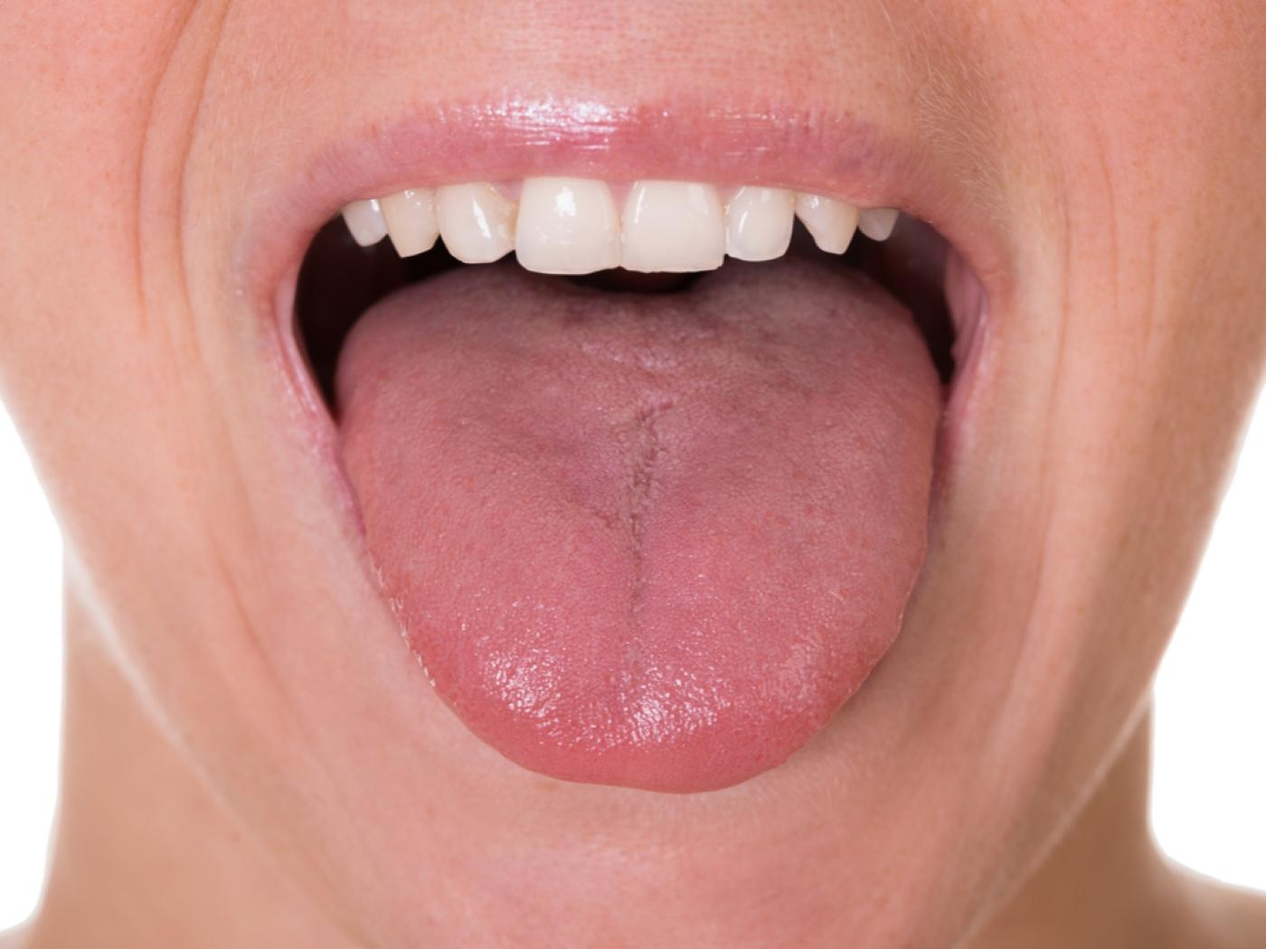baitaishe: (334, 277, 945, 796)
